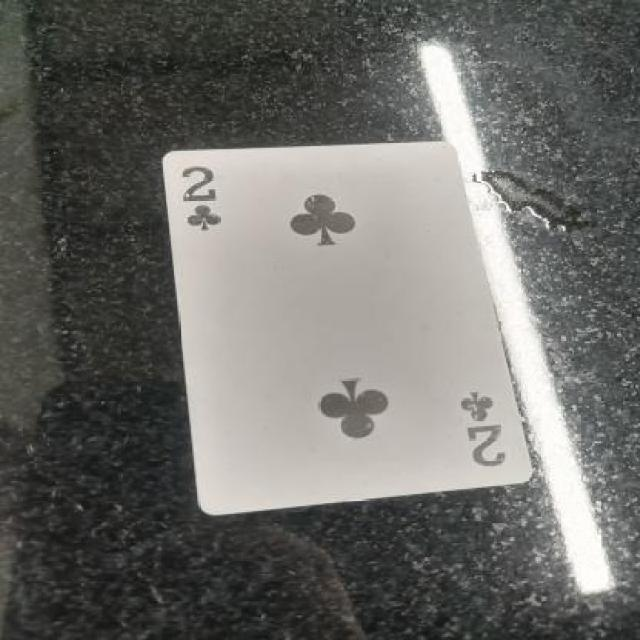2C: (444, 378, 522, 476), (172, 160, 239, 246)
